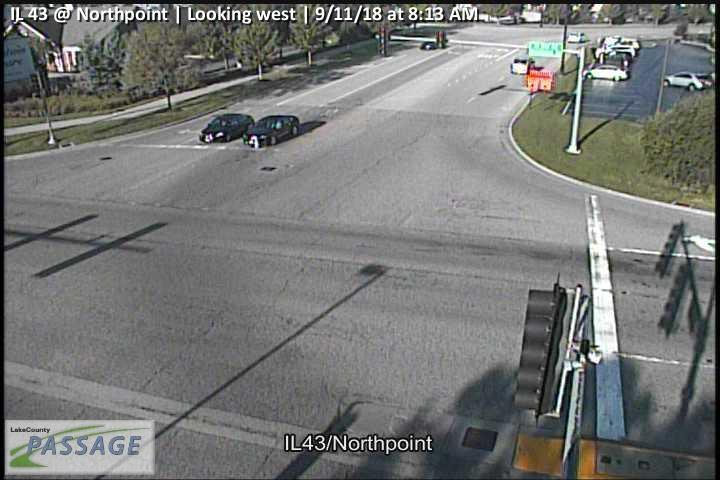SUV: (595, 52, 633, 68), (511, 53, 535, 75), (568, 32, 586, 42)
Sedan: (243, 115, 300, 148), (199, 114, 255, 145), (663, 72, 712, 90), (583, 64, 628, 81), (421, 42, 436, 50)
